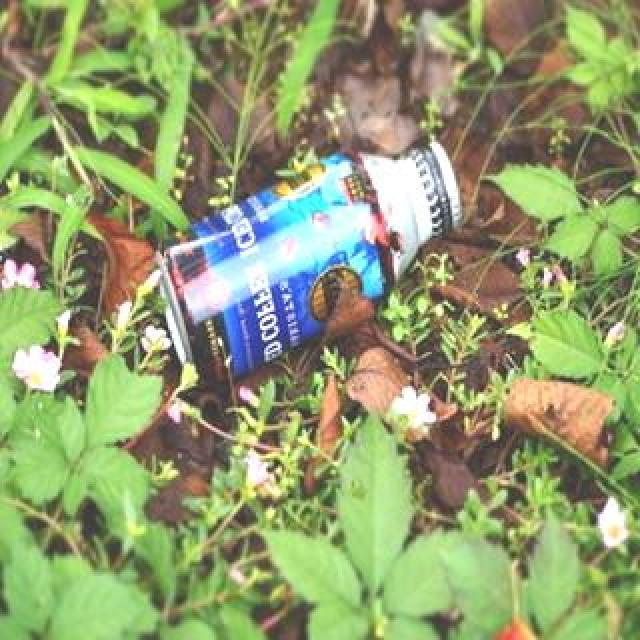Can: (151, 142, 463, 386)
